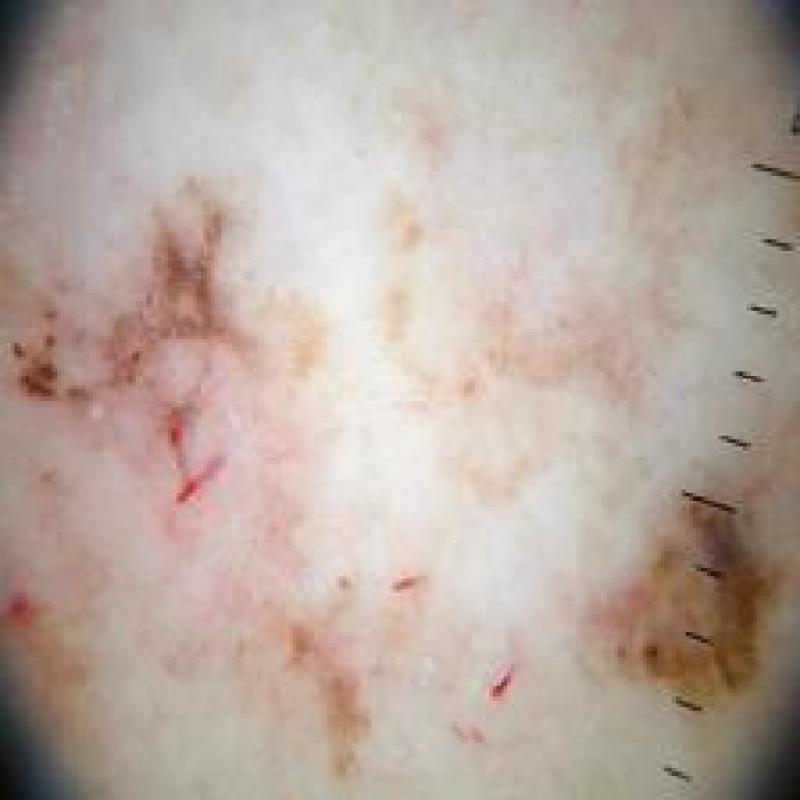malignant: (8, 187, 392, 562), (562, 464, 785, 712)
